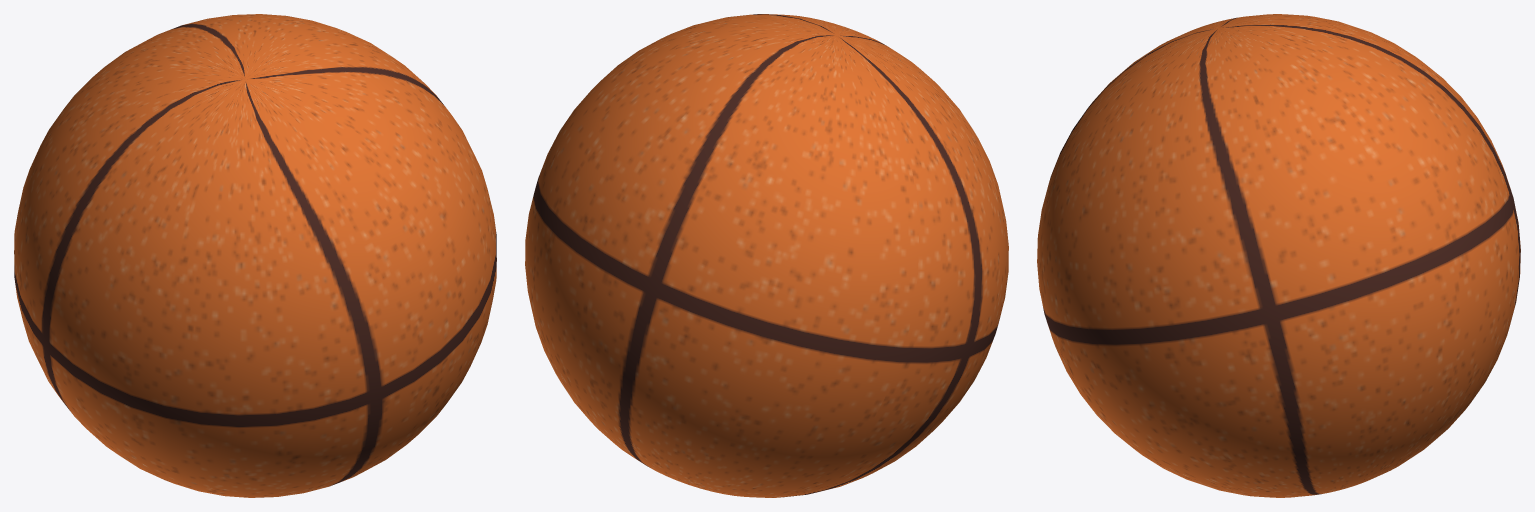
Rendered from basketball.glb.
The picture shows the model from 3 angles, left to right: view 1: azimuth 30°, elevation 25°; view 2: azimuth 150°, elevation 25°; view 3: azimuth 270°, elevation 25°; orthographic projection.
Bounding box in the file's own units: 0.9582 × 0.9597 × 0.9597.
1 material, 1 textured.
